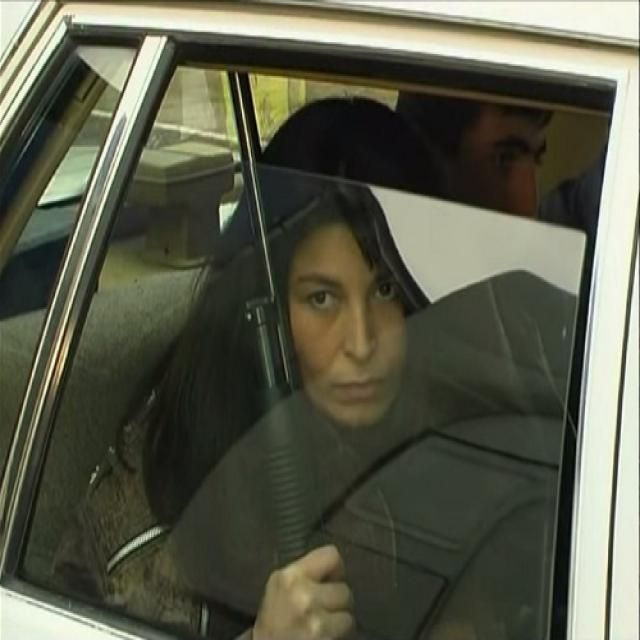rifle: (224, 61, 328, 571)
